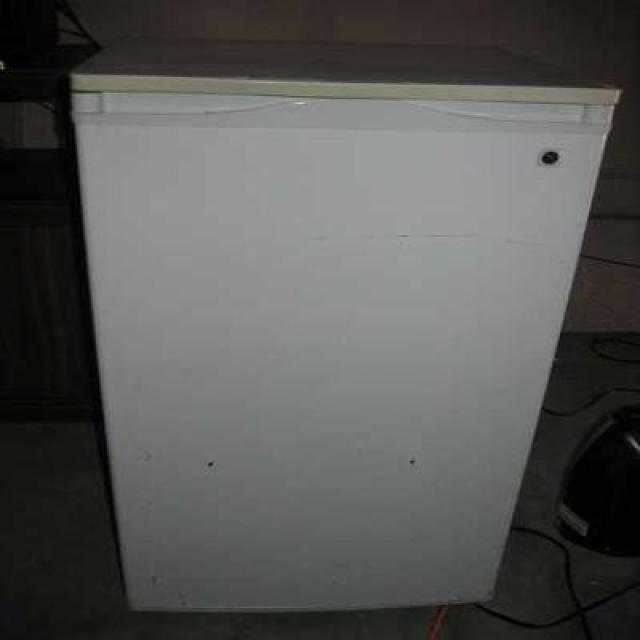refrigerator: (68, 71, 622, 639)
